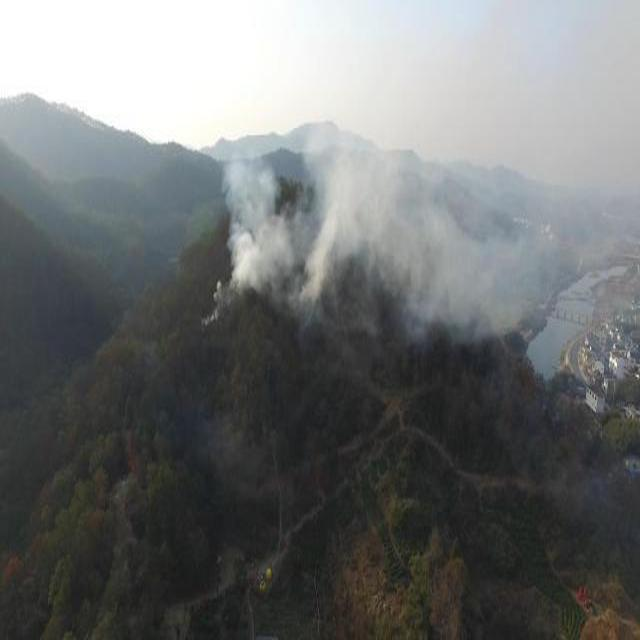Smoke: (218, 146, 546, 344)
